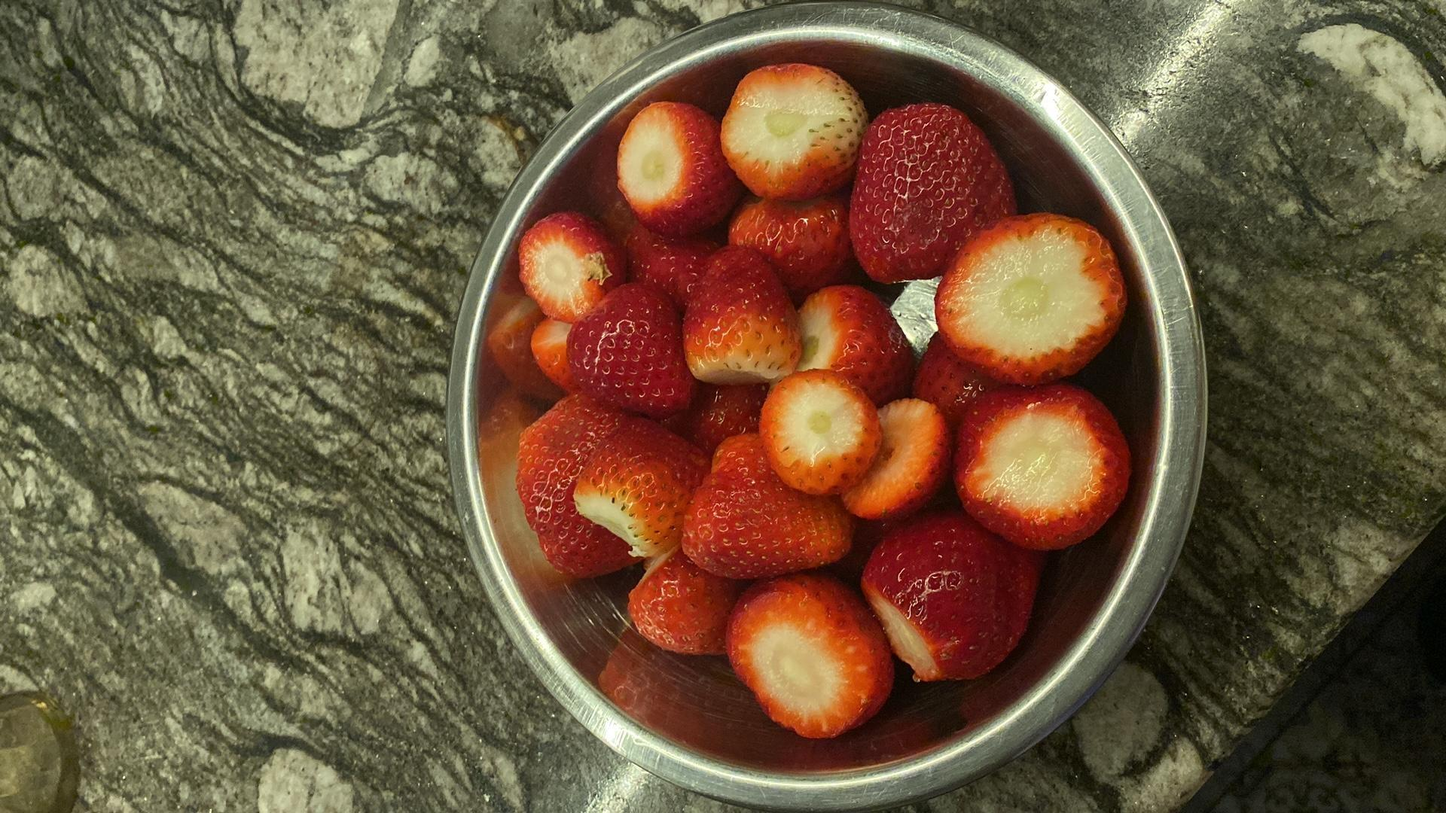strawberry: (938, 209, 1131, 386), (859, 99, 1022, 286), (950, 380, 1126, 551), (866, 518, 1042, 671), (728, 574, 886, 737), (685, 427, 852, 577), (513, 393, 636, 576), (561, 280, 702, 420), (723, 65, 876, 186), (681, 226, 797, 377), (571, 420, 699, 551), (621, 99, 735, 227), (757, 375, 882, 488), (733, 187, 869, 288), (791, 273, 906, 381), (845, 398, 948, 514), (516, 212, 621, 312), (636, 550, 736, 655), (630, 227, 723, 300)
